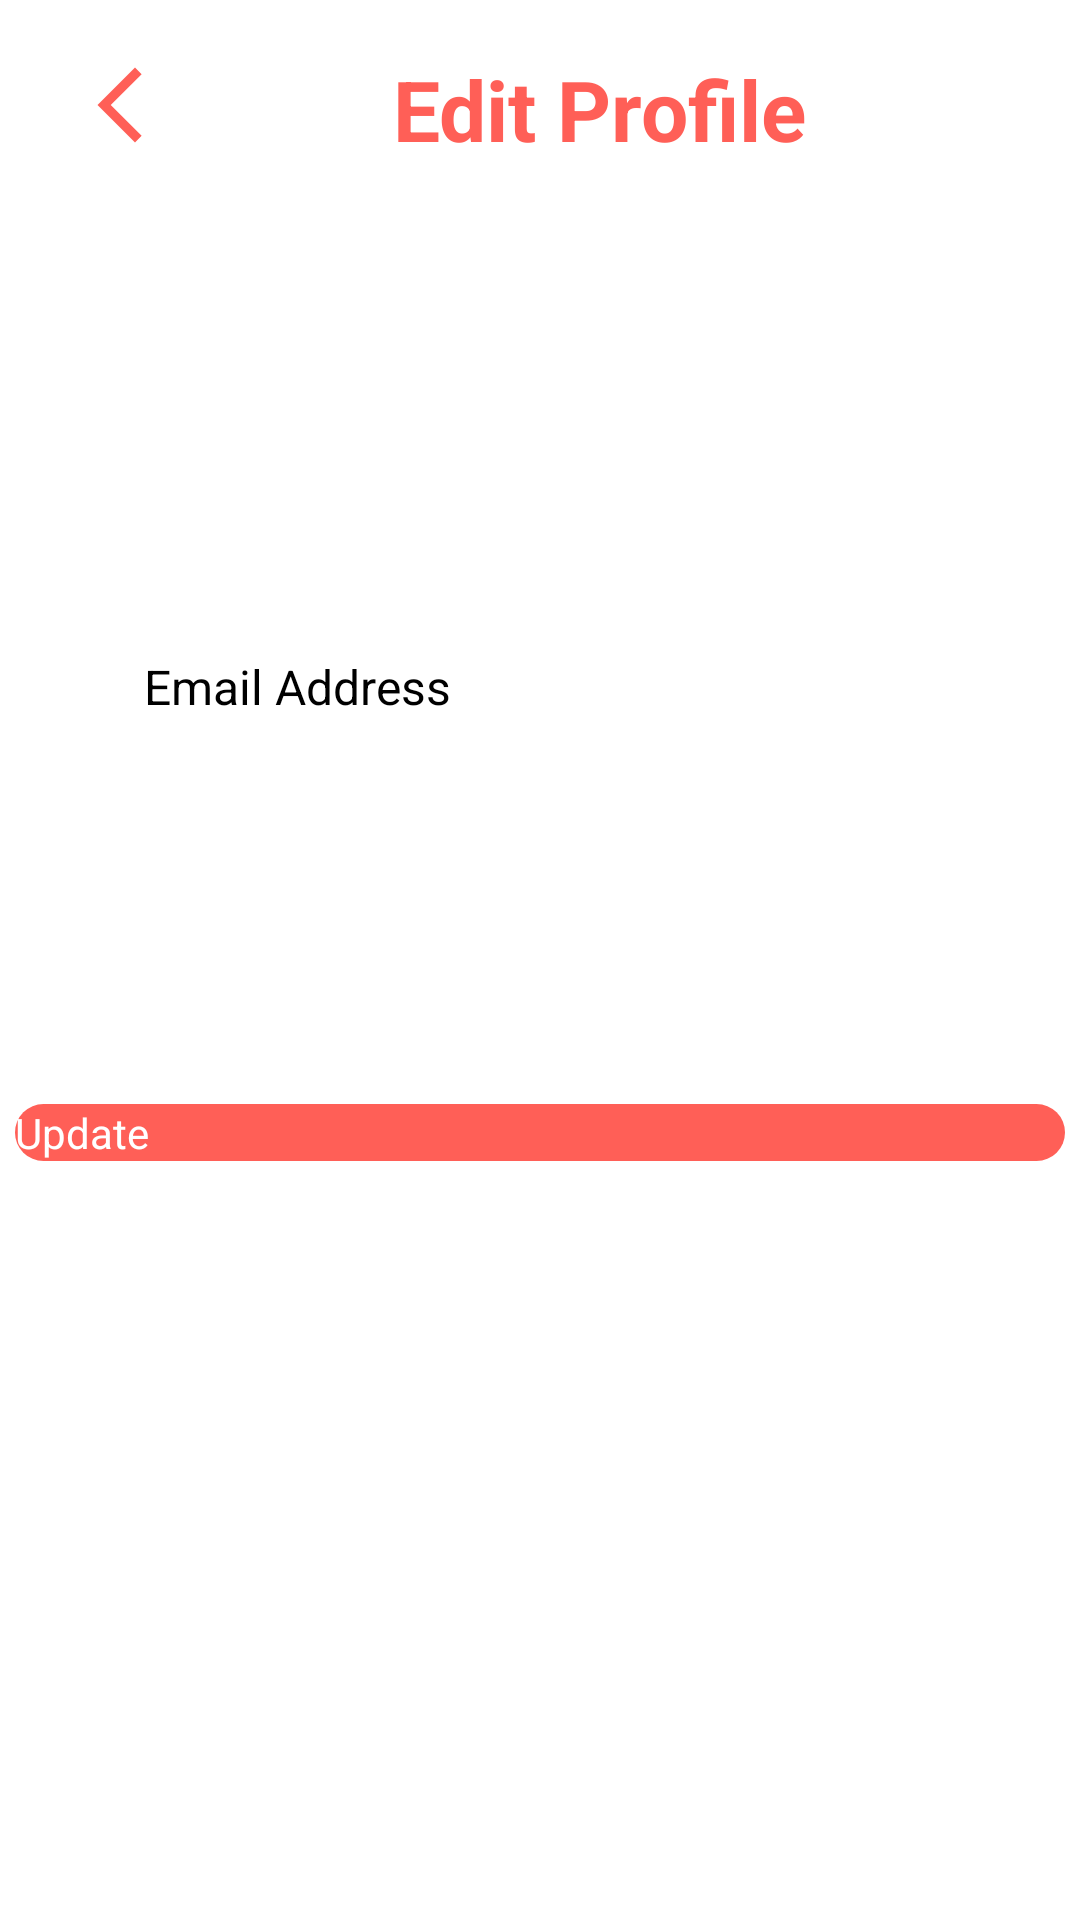

Locate icon controls on the screen. Image size 1080x1920, boxes as [x1=x1, y1=y1, x2=x2, y2=y2].
arrow back: [x1=98, y1=68, x2=142, y2=142]
